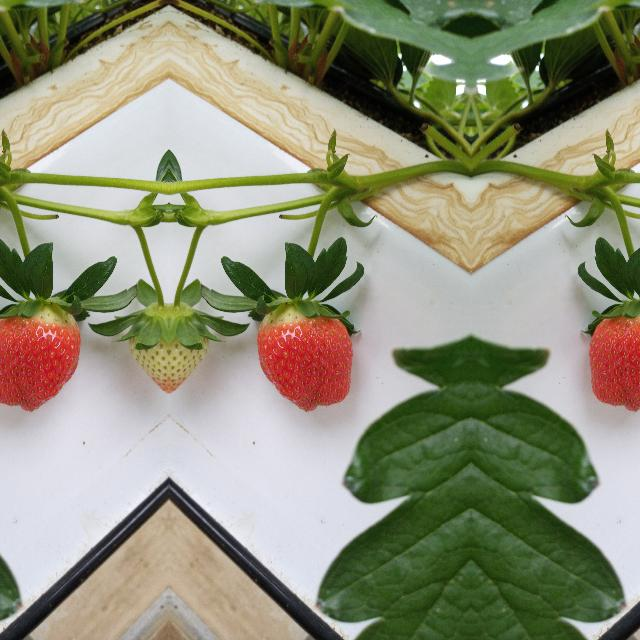Health_100: (255, 303, 352, 412), (0, 302, 80, 411), (588, 302, 640, 411)
Health_50: (168, 302, 212, 403), (124, 302, 168, 403)
